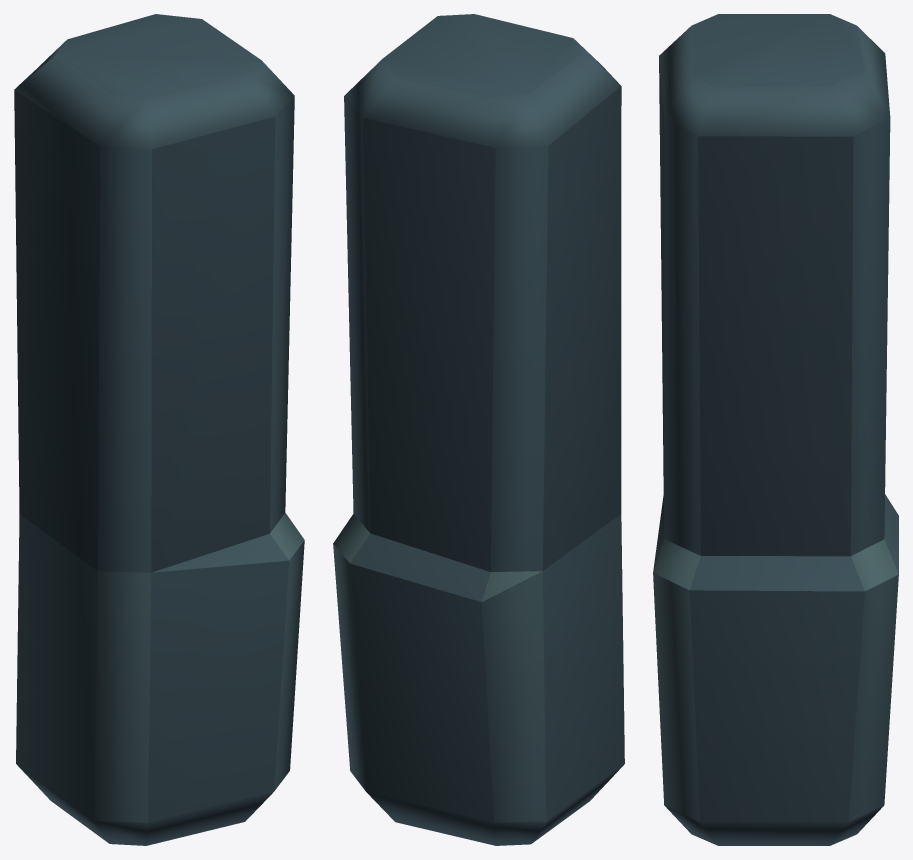
Rendered from archway_small_frame_part_medium.fbx.
3 views of the same model, side by side, from view 1: azimuth 30°, elevation 25°; view 2: azimuth 150°, elevation 25°; view 3: azimuth 270°, elevation 25° (orthographic).
Parts seen in each view (by area): view 1: archway_small_frame_part_medium; view 2: archway_small_frame_part_medium; view 3: archway_small_frame_part_medium.
Part boxes in pixels (x1=…): archway_small_frame_part_medium: x1=14, y1=14, x2=304, y2=845; archway_small_frame_part_medium: x1=333, y1=14, x2=624, y2=845; archway_small_frame_part_medium: x1=653, y1=14, x2=898, y2=845.
Bounding box in the file's own units: 63.56 × 216 × 63.26.
